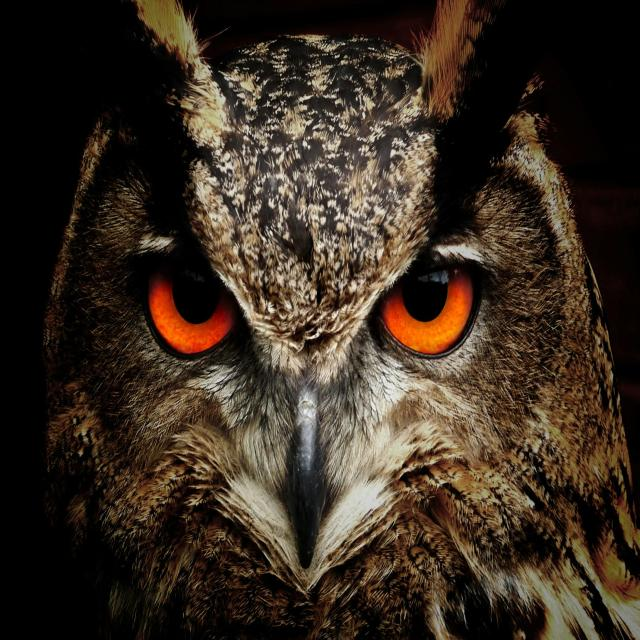Owl: (20, 0, 640, 640)
